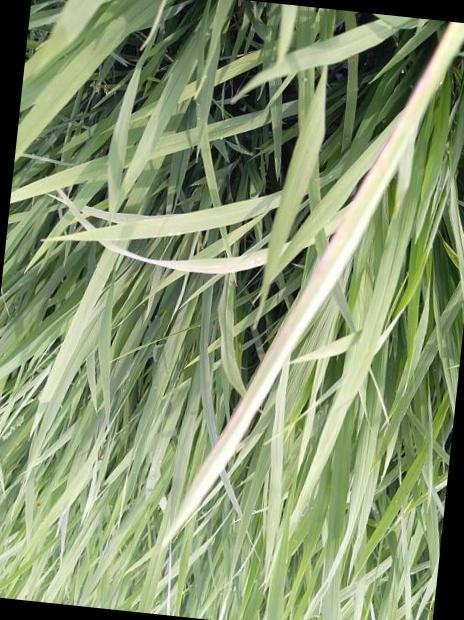Leaf Blight: (164, 21, 464, 543)
